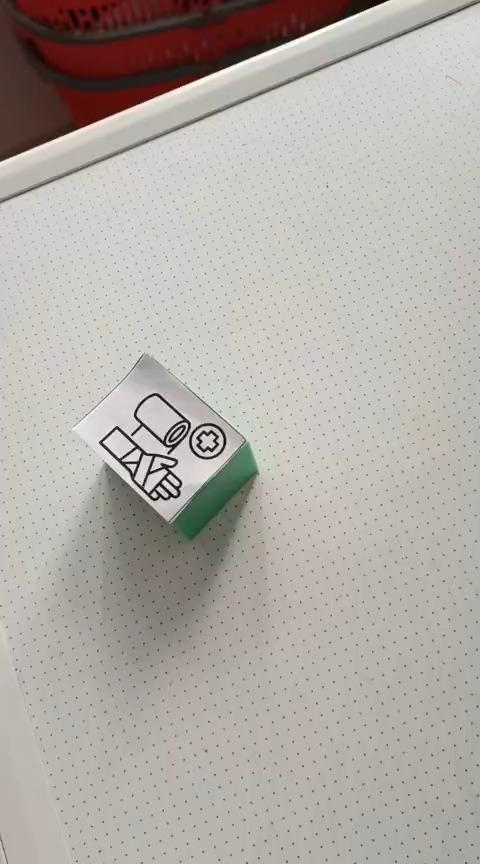Bandages: (70, 351, 258, 541)
